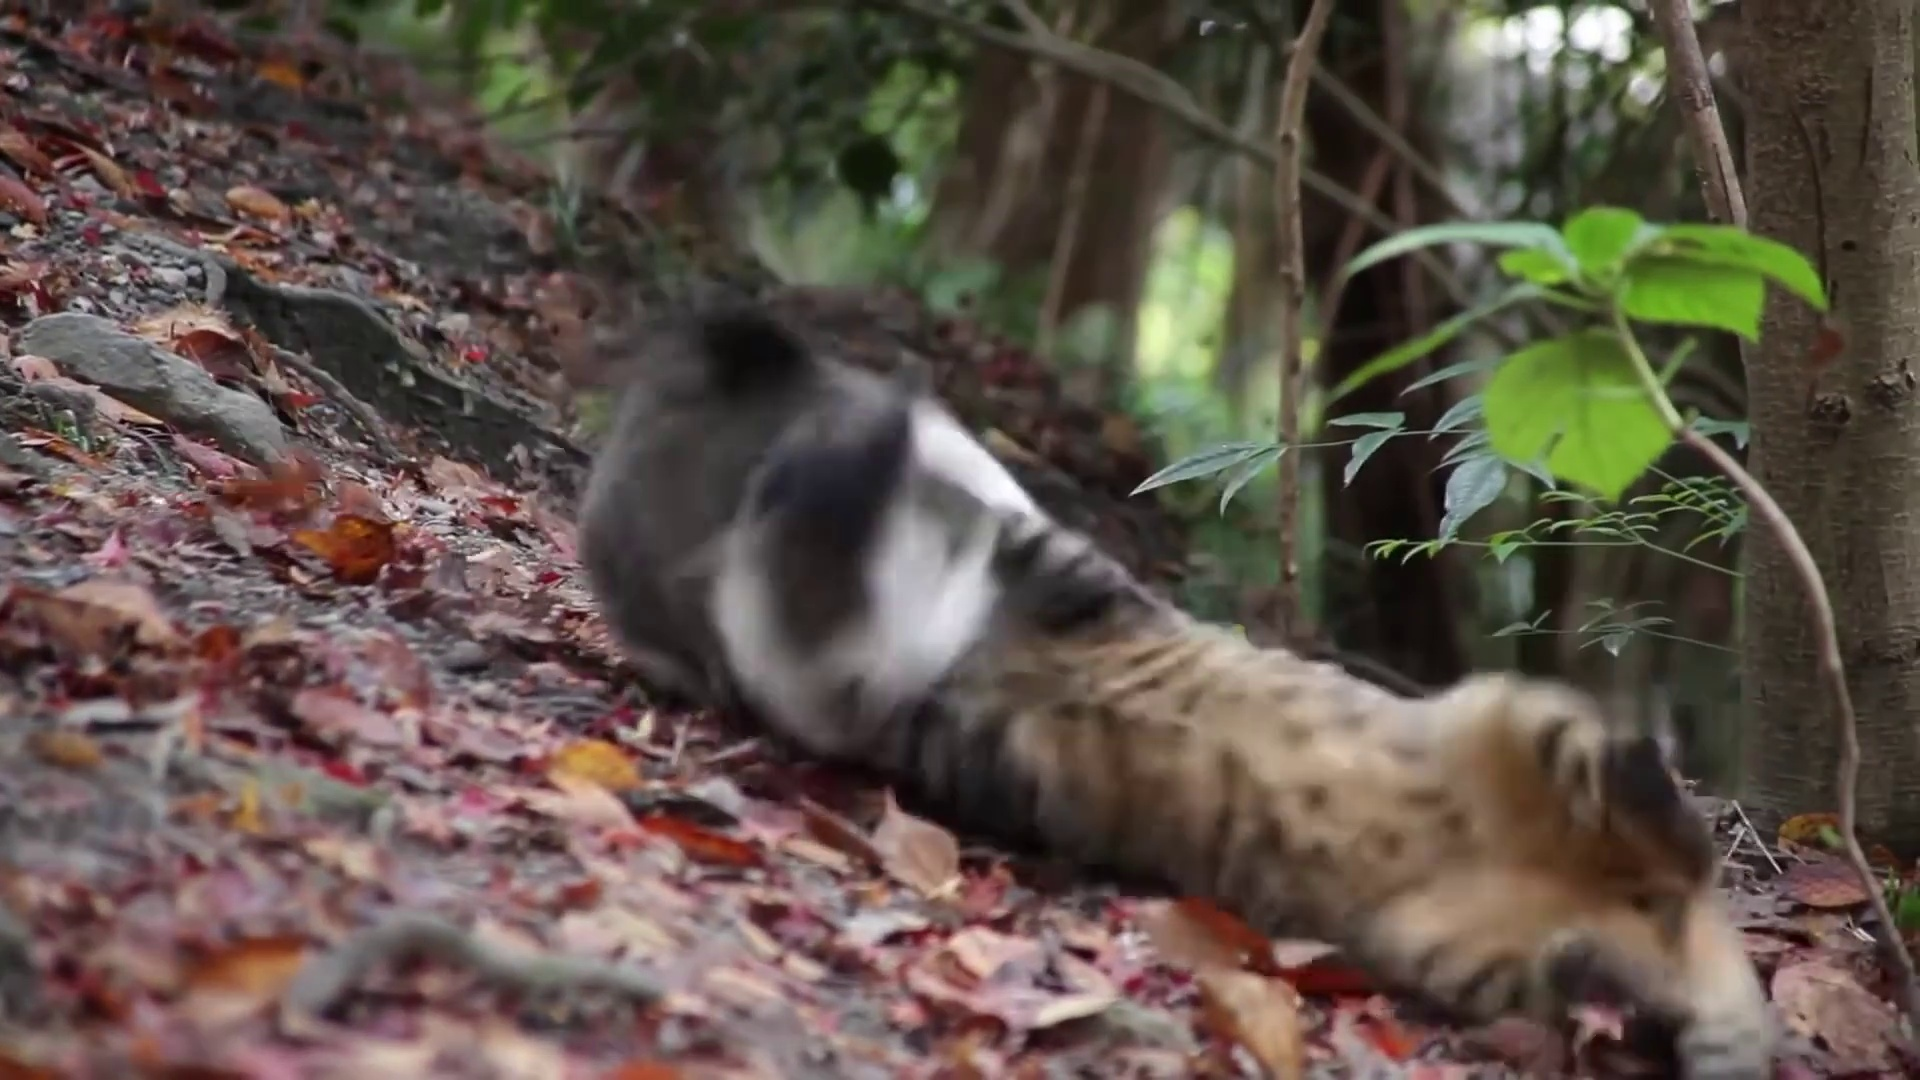black-white: (574, 336, 1089, 746)
pure black: (885, 529, 1775, 1080)
